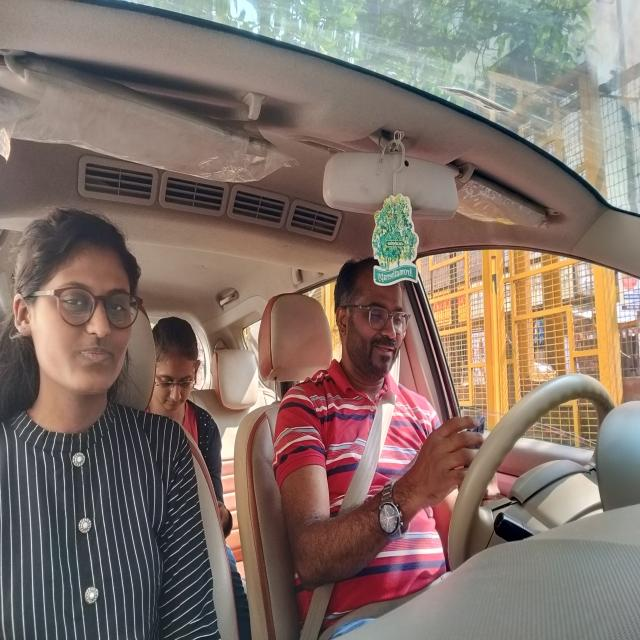mobile: (462, 416, 492, 498)
person: (11, 201, 149, 396), (331, 251, 415, 386), (150, 316, 203, 419)
